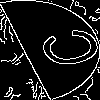C: (25, 25, 100, 74)
